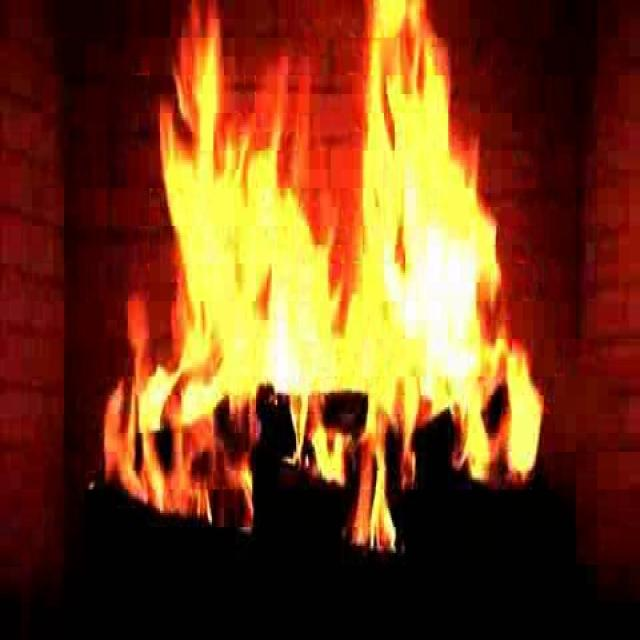fire: (140, 24, 539, 572)
